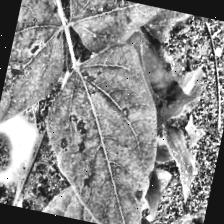ALS: (39, 56, 175, 224), (0, 0, 72, 162), (62, 0, 161, 60)
